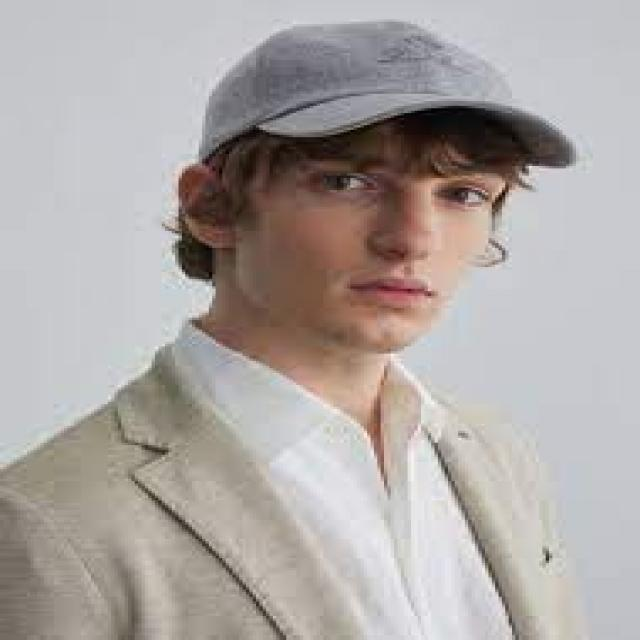suspicious-objects: (204, 22, 576, 167)
